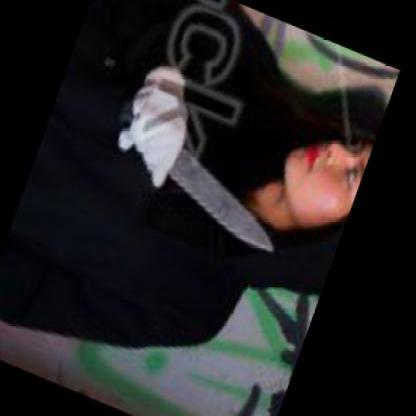knife: (115, 114, 318, 255)
